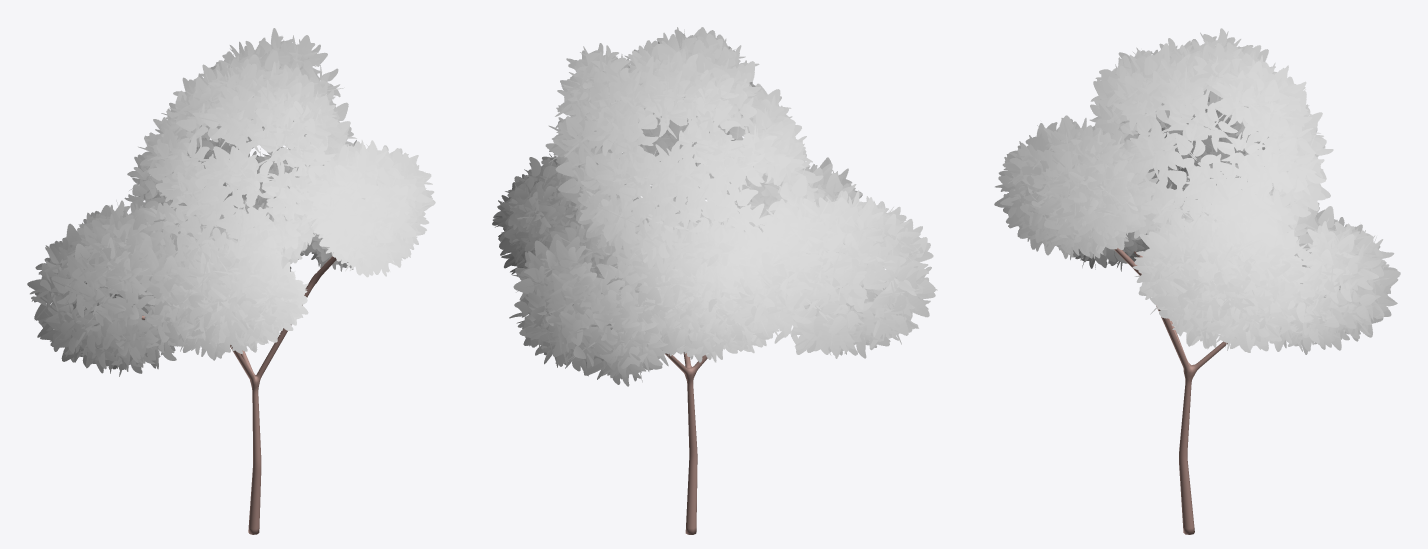
The model's file is Tree.fbx.
3 views of the same model, side by side, from view 1: azimuth 30°, elevation 25°; view 2: azimuth 150°, elevation 25°; view 3: azimuth 270°, elevation 25° (orthographic). The views are drawn at different scales.
Visible parts, largest first — view 1: Leaves2, Trunk; view 2: Leaves2, Trunk; view 3: Leaves2, Trunk.
Part boxes in pixels (<box>): Leaves2: <box>27,28,435,376</box>; Trunk: <box>141,256,336,534</box>; Leaves2: <box>492,27,937,386</box>; Trunk: <box>665,352,707,534</box>; Leaves2: <box>994,28,1400,354</box>; Trunk: <box>1114,248,1227,534</box>.
Bounding box in the file's own units: 10.73 × 12.14 × 9.29.
